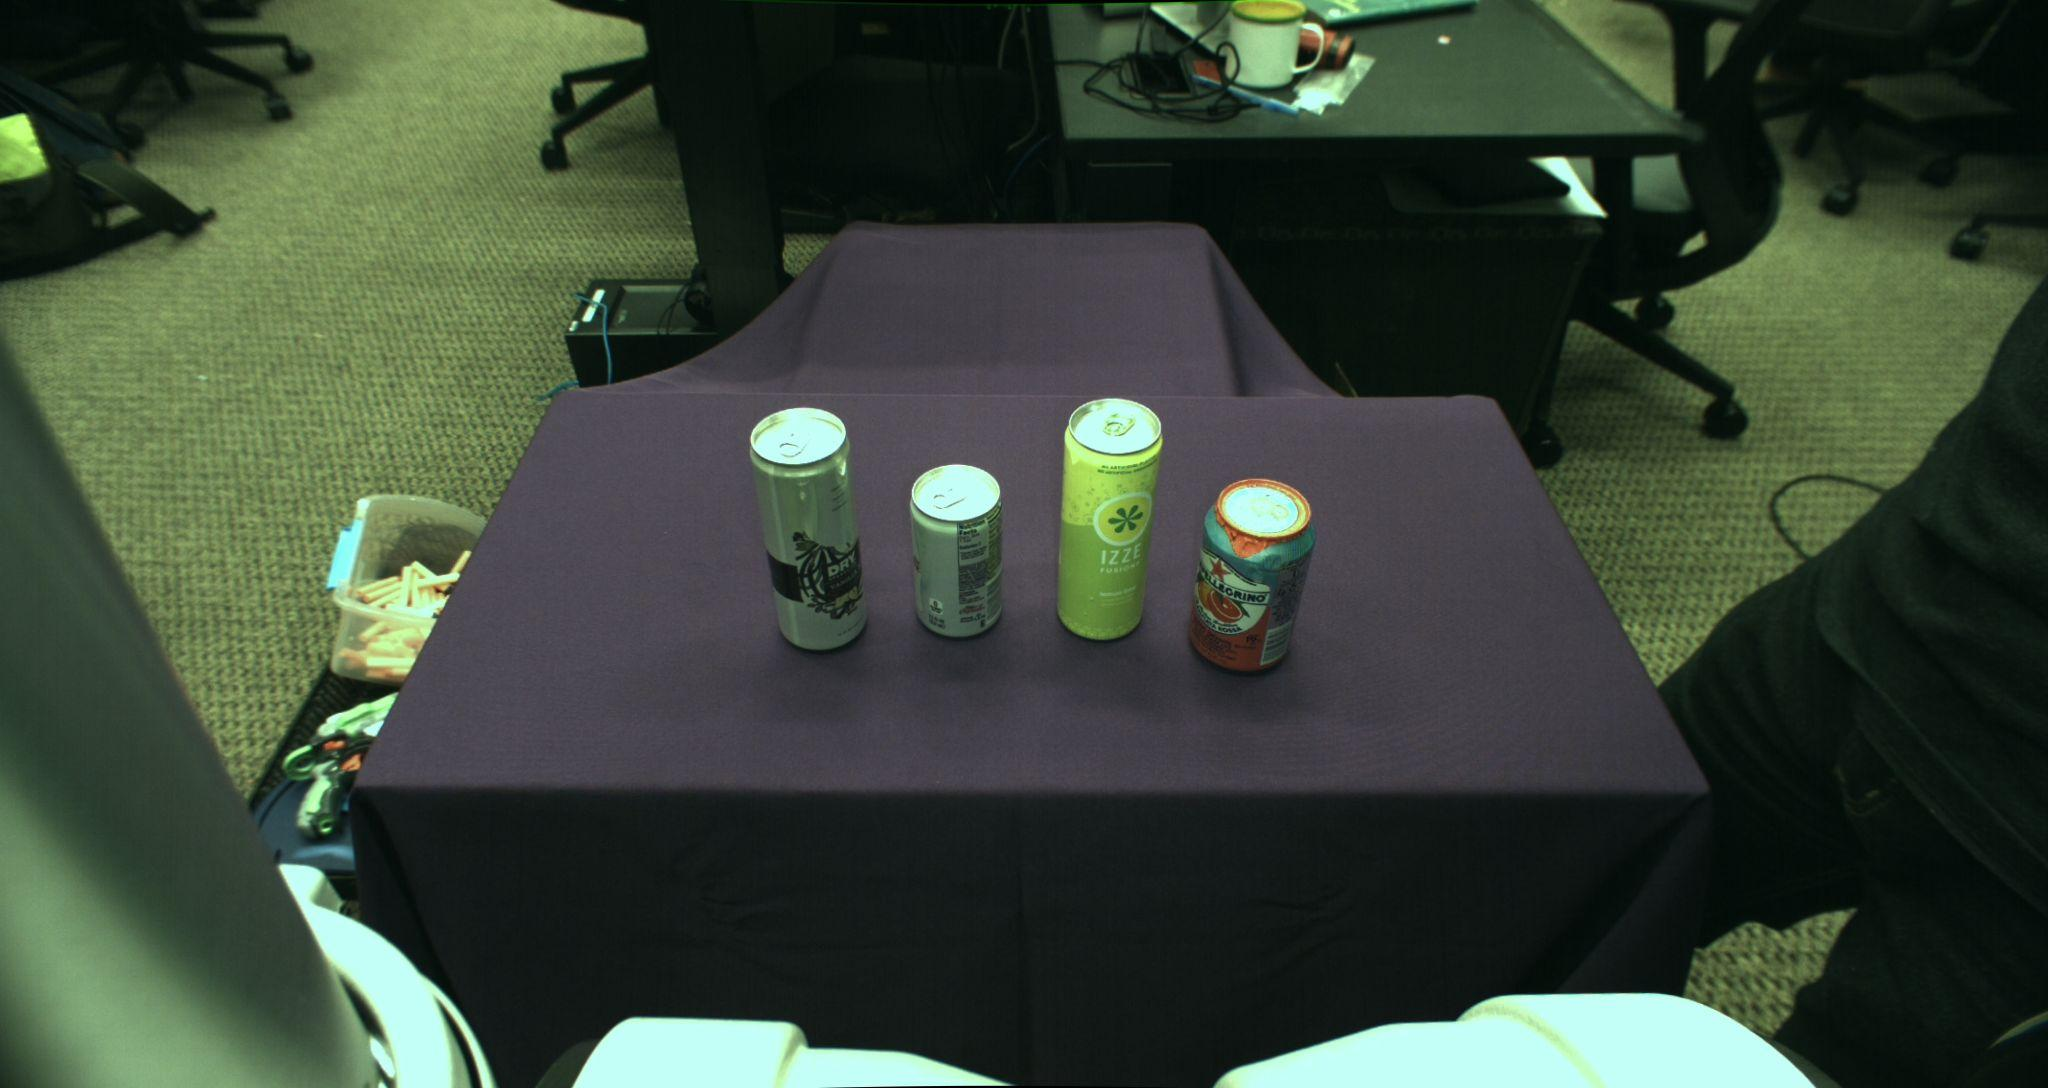can_diet_coke_small: (908, 463, 1002, 638)
can_dry_sparkling_vanilla_bean: (748, 404, 870, 650)
can_izze_fusions_lemon_lime: (1057, 397, 1164, 638)
can_sanpellegrino_blood_orange: (1189, 477, 1317, 673)
